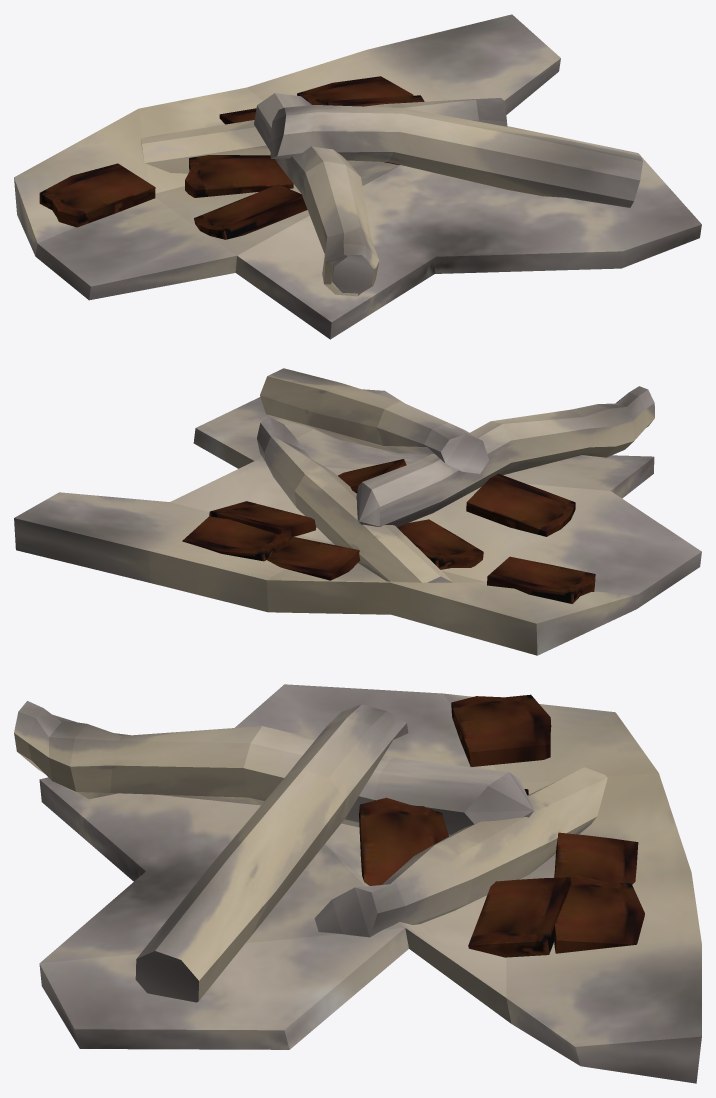
The model's file is Escombro.fbx.
3 views of the same model, one above another, from view 1: azimuth 30°, elevation 25°; view 2: azimuth 150°, elevation 25°; view 3: azimuth 270°, elevation 25° (orthographic). The views are drawn at different scales.
Visible parts, largest first — view 1: LOD_0; view 2: LOD_0; view 3: LOD_0.
Part boxes in pixels (box(x1,y1,x2,y2)): LOD_0: box(14, 14, 701, 339); LOD_0: box(14, 368, 701, 655); LOD_0: box(14, 684, 701, 1083).
Size of what is drawn, in the model's own units: 189 by 40.17 by 149.
